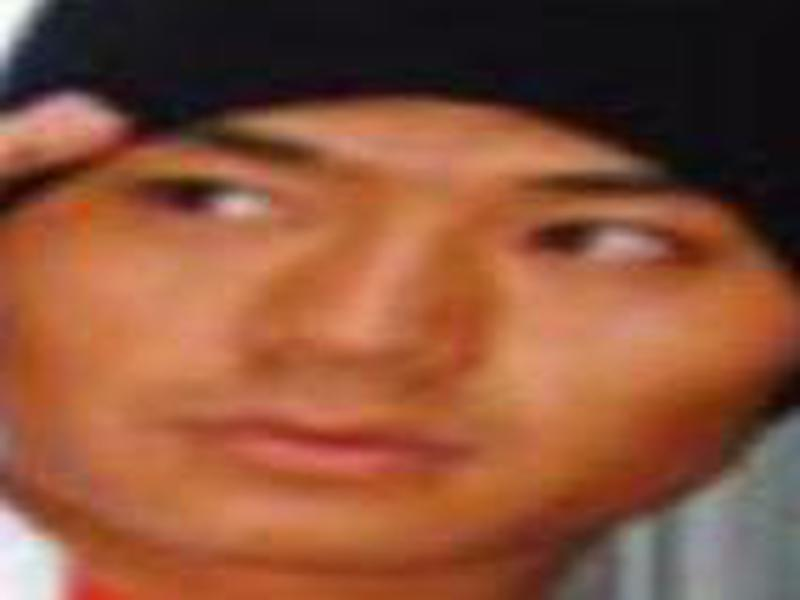without_mask: (16, 84, 789, 576)
